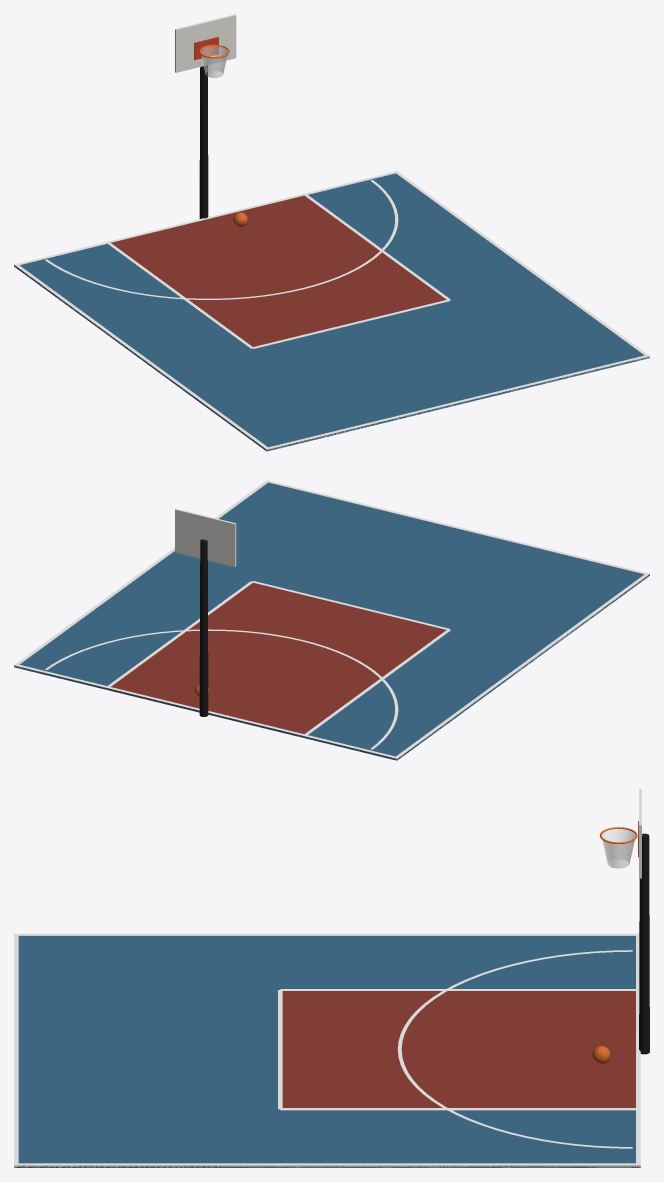
File: court.glb
3 views of the same model, one above another, from view 1: azimuth 30°, elevation 25°; view 2: azimuth 150°, elevation 25°; view 3: azimuth 270°, elevation 25° (orthographic). The views are drawn at different scales.
Visible parts, largest first — view 1: court; view 2: court; view 3: court.
Part boxes in pixels (x1,y1,x2,y2): court: (14,14,649,451); court: (14,480,649,760); court: (14,789,649,1167).
Size of the model in its own units: 7 by 3.45 by 8.12.
Materials: 2 (2 with a texture image).
